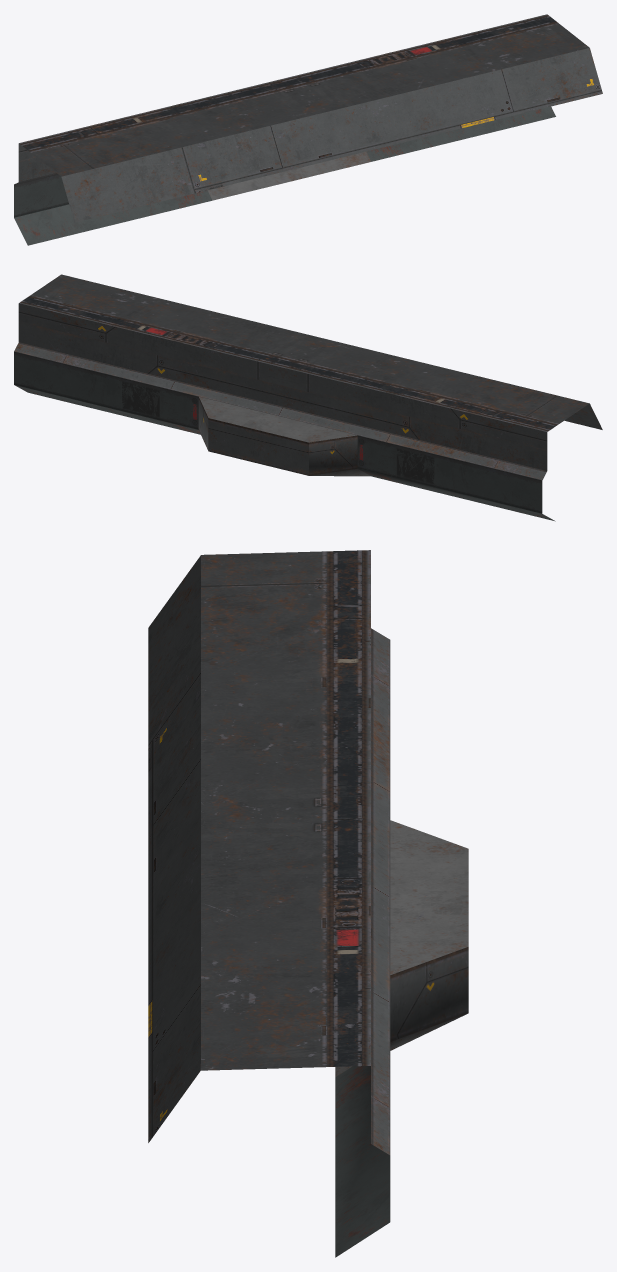
The model's file is ARC0910133.fbx.
The picture shows the model from 3 angles, top to bottom: view 1: azimuth 30°, elevation 25°; view 2: azimuth 150°, elevation 25°; view 3: azimuth 270°, elevation 25°; orthographic projection. The views are drawn at different scales.
Visible parts, largest first — view 1: smARC0910133; view 2: smARC0910133; view 3: smARC0910133.
Part boxes in pixels (<box>): smARC0910133: <box>14,14,602,245</box>; smARC0910133: <box>14,274,602,521</box>; smARC0910133: <box>148,550,468,1257</box>.
Size of the model in its own units: 400 by 69.44 by 105.
1 material, 1 textured.
